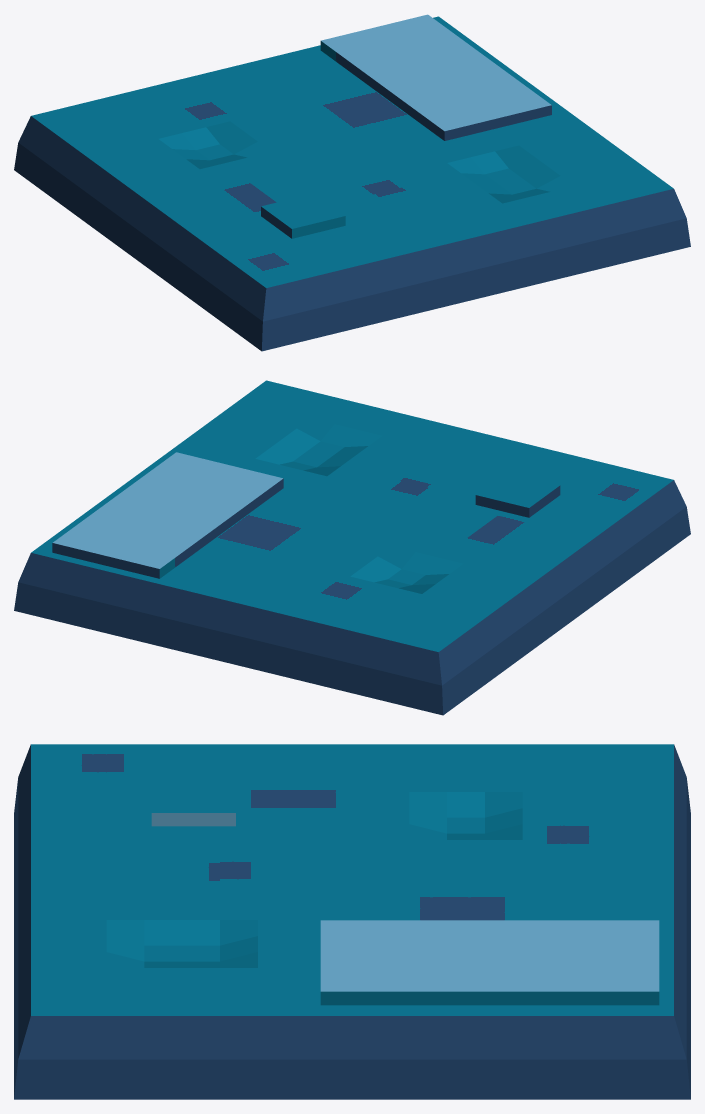
Rendered from Dungeon_Tile_2.obj.
3 views of the same model, one above another, from view 1: azimuth 30°, elevation 25°; view 2: azimuth 150°, elevation 25°; view 3: azimuth 270°, elevation 25° (orthographic). The views are drawn at different scales.
Parts seen in each view (by area): view 1: Block-col, cuboid; view 2: Block-col, cuboid; view 3: Block-col, cuboid.
Part boxes in pixels (x1,y1,x2,y2): Block-col: (14, 16, 690, 351); cuboid: (261, 14, 551, 238); Block-col: (14, 380, 690, 715); cuboid: (52, 452, 560, 578); Block-col: (14, 744, 690, 1099); cuboid: (151, 777, 659, 1005).
Bounding box in the file's own units: 1 × 0.1562 × 1.
3 materials, 3 textured.
